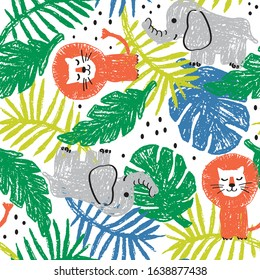animal: (208, 155, 259, 239), (57, 48, 143, 91)
elephant: (40, 146, 157, 211), (141, 2, 254, 66)
